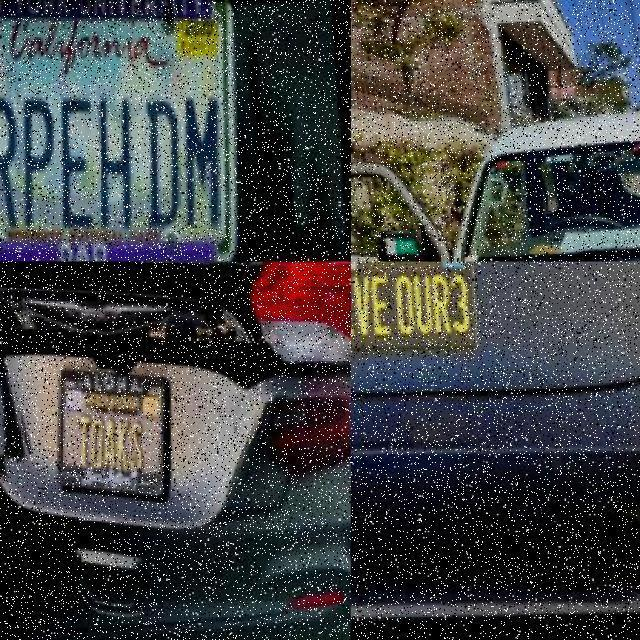License Plate: (0, 0, 232, 260), (40, 359, 168, 507), (351, 262, 479, 374)
